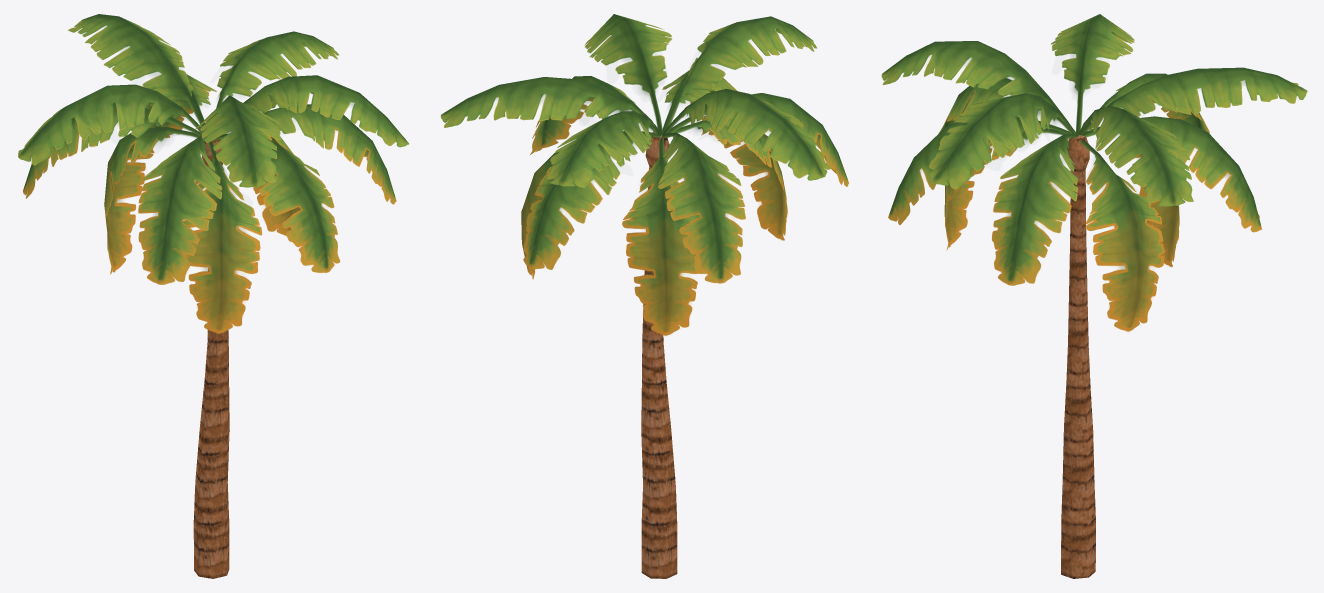
File: palm1.glb
3 views of the same model, side by side, from view 1: azimuth 30°, elevation 25°; view 2: azimuth 150°, elevation 25°; view 3: azimuth 270°, elevation 25° (orthographic).
Visible parts, largest first — view 1: Leaf_2, Bark_2; view 2: Leaf_2, Bark_2; view 3: Leaf_2, Bark_2.
Boxes of the visible parts, left/top/right/bottom form: Leaf_2: left=18, top=14, right=408, bottom=333; Bark_2: left=193, top=139, right=229, bottom=578; Leaf_2: left=441, top=14, right=848, bottom=335; Bark_2: left=641, top=131, right=677, bottom=578; Leaf_2: left=881, top=14, right=1307, bottom=331; Bark_2: left=1061, top=135, right=1095, bottom=578.
Size of the model in its own units: 3.01 by 4.24 by 3.2.
Materials: 4 (4 with a texture image).
